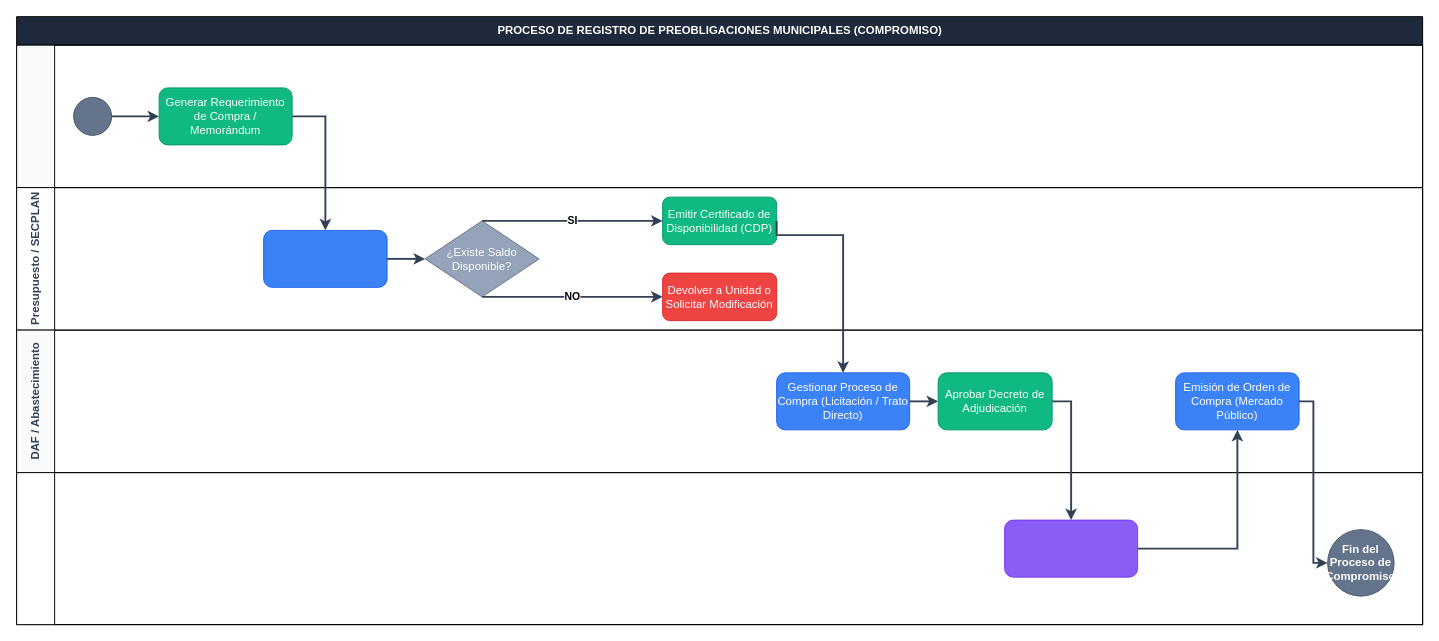
Image size: 1439x641. Some labels were removed from this diagram. The shapes that lost their labels are listed below. From the top down, each one's box as (x1, y1, x2, y2) in pixels, then its label:
(73, 96, 112, 135): Inicio
(16, 44, 1423, 188): Unidad Solicitante (SGM)
(263, 229, 387, 287): Evaluar Disponibilidad Presupuestaria
(16, 472, 1423, 625): Contabilidad y Finanzas
(1004, 519, 1138, 577): Registro Contable de Preobligación (Compromiso Cierto)
